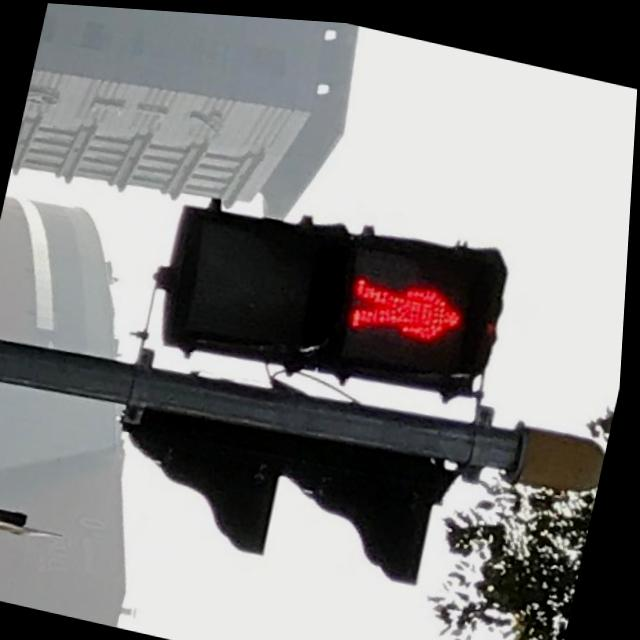red_light: (335, 229, 490, 374)
